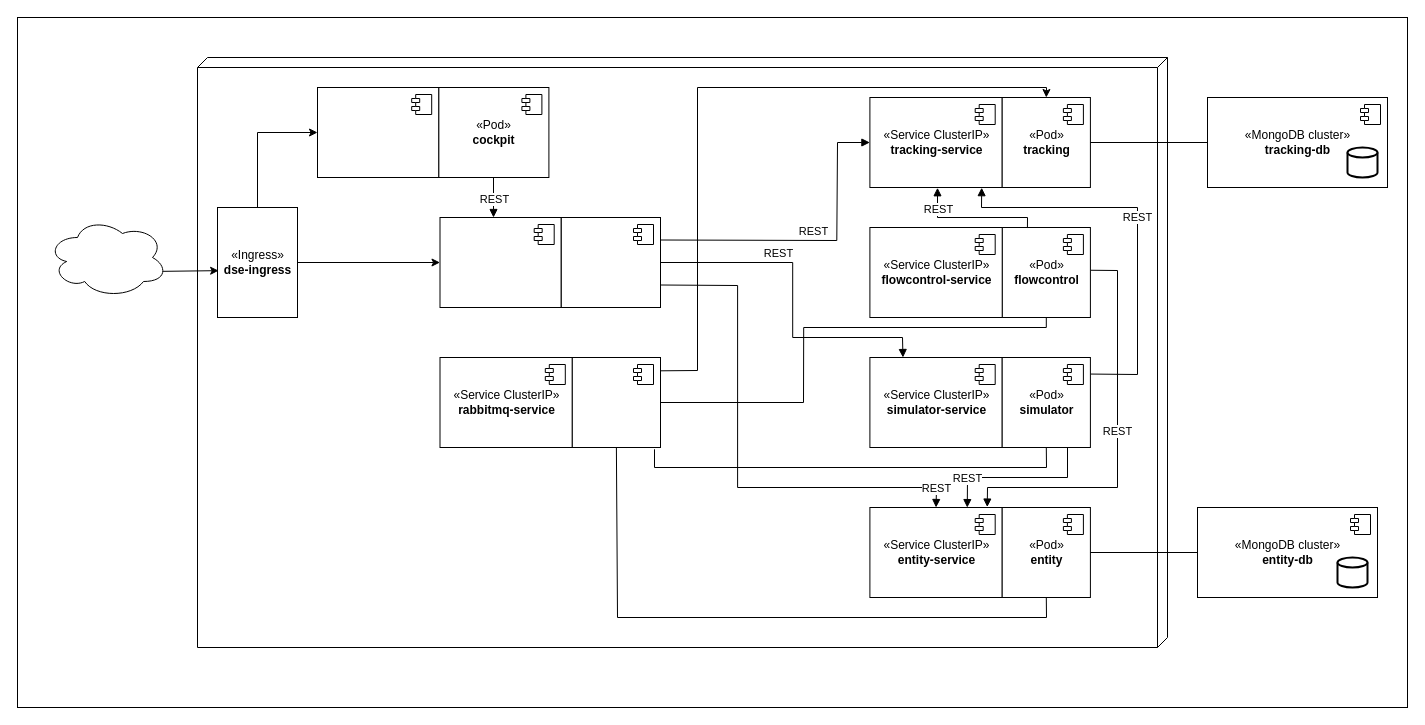
The diagram is 1425 pixels wide and 725 high, and some of its shapes have lost their labels. Each missing label, with the box of its shape:
Internet: (46, 216, 168, 298)
Worker Node <n>: (196, 56, 1168, 648)
«Pod» gateway: (560, 216, 660, 308)
«Pod» rabbitmq: (571, 356, 660, 448)
«Service ClusterIP» cockpit-service: (316, 86, 439, 178)
«Service ClusterIP» gateway-service: (439, 216, 561, 308)
